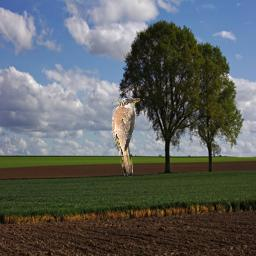Cuckoo: (112, 98, 140, 177)
